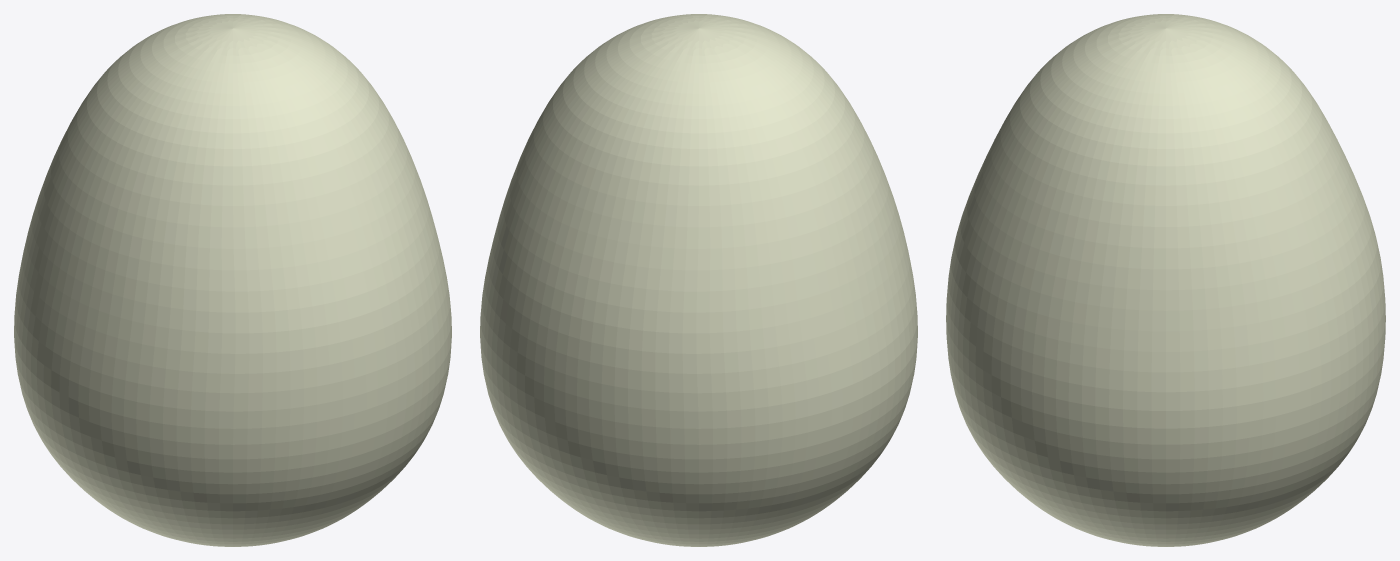
Rendered from egg.fbx.
The picture shows the model from 3 angles, left to right: view 1: azimuth 30°, elevation 25°; view 2: azimuth 150°, elevation 25°; view 3: azimuth 270°, elevation 25°; orthographic projection.
Visible parts, largest first — view 1: shell; view 2: shell; view 3: shell.
Part boxes in pixels (x1,y1,x2,y2): shell: (14,14,451,546); shell: (480,14,917,546); shell: (946,14,1385,546).
Size of the model in its own units: 23.47 by 29.62 by 23.59.
